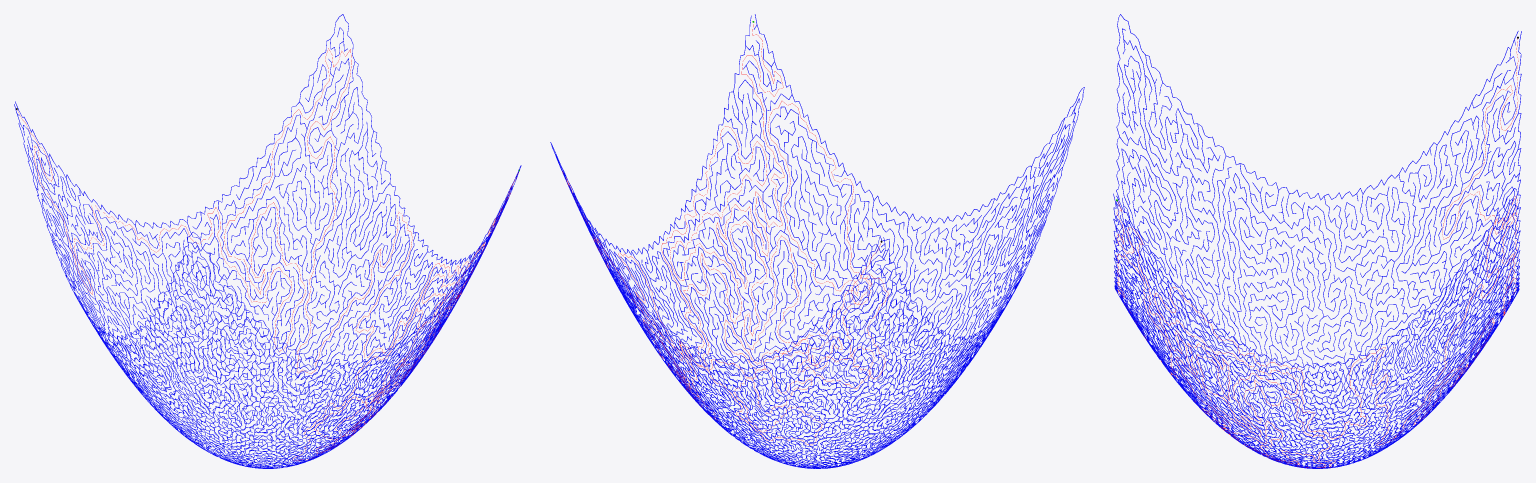
The model's file is NiceMaze.glb.
3 views of the same model, side by side, from view 1: azimuth 30°, elevation 25°; view 2: azimuth 150°, elevation 25°; view 3: azimuth 270°, elevation 25° (orthographic). The views are drawn at different scales.
Bounding box in the file's own units: 2.03 × 1.91 × 1.98.
